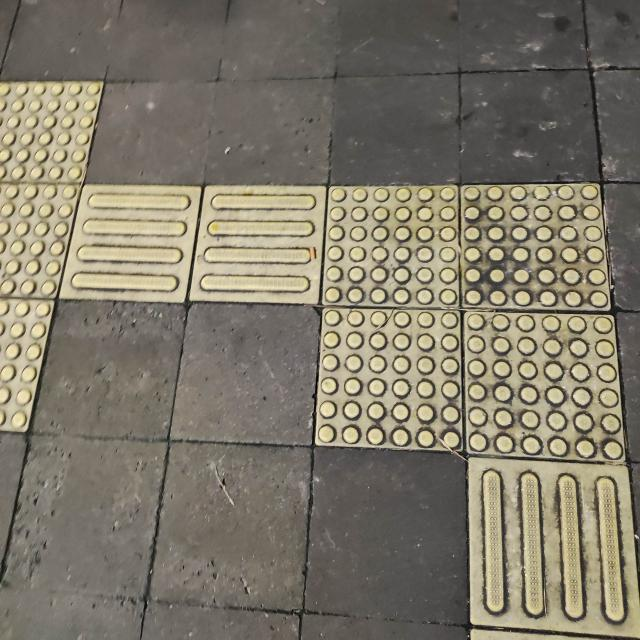kiri: (97, 140, 640, 572)
